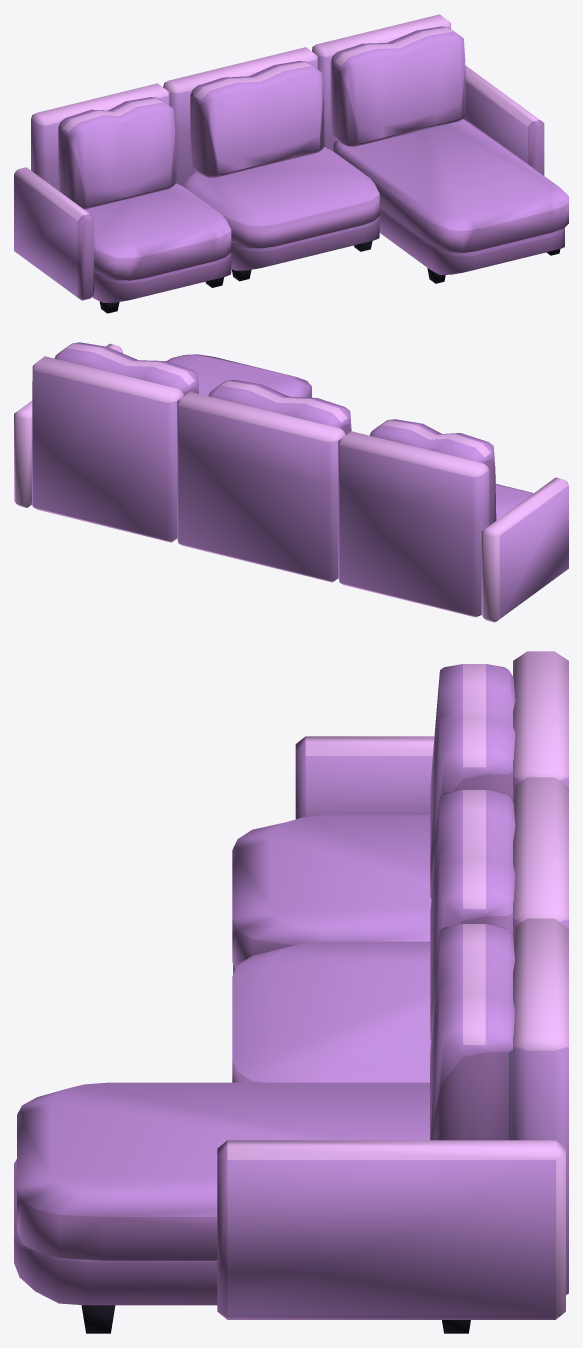
File: Counch_Pink.fbx
3 views of the same model, one above another, from view 1: azimuth 30°, elevation 25°; view 2: azimuth 150°, elevation 25°; view 3: azimuth 270°, elevation 25° (orthographic). The views are drawn at different scales.
Visible parts, largest first — view 1: Plane.026, Plane.027, Plane.030; view 2: Plane.027, Plane.026, Plane.030; view 3: Plane.026, Plane.027, Plane.030.
Part boxes in pixels (x1,y1,x2,y2): Plane.026: (312, 14, 568, 283); Plane.027: (14, 83, 231, 313); Plane.030: (163, 47, 379, 281); Plane.027: (338, 419, 568, 622); Plane.026: (14, 342, 311, 542); Plane.030: (177, 380, 351, 582); Plane.026: (14, 918, 568, 1333); Plane.027: (232, 651, 568, 973); Plane.030: (232, 777, 568, 1082).
Size of the model in its own units: 300 by 100 by 165.
